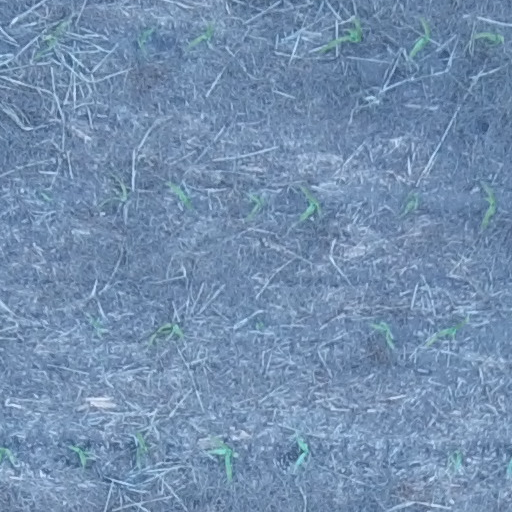planta: (317, 17, 363, 53), (31, 21, 66, 60), (424, 321, 465, 347), (211, 437, 234, 480), (99, 174, 127, 207), (409, 16, 431, 56), (479, 180, 497, 225), (299, 183, 320, 221), (167, 182, 194, 209), (190, 22, 214, 47), (371, 321, 393, 346), (245, 194, 263, 220), (471, 31, 504, 45), (296, 438, 310, 465), (158, 323, 184, 336), (71, 445, 86, 465), (136, 432, 147, 458)
